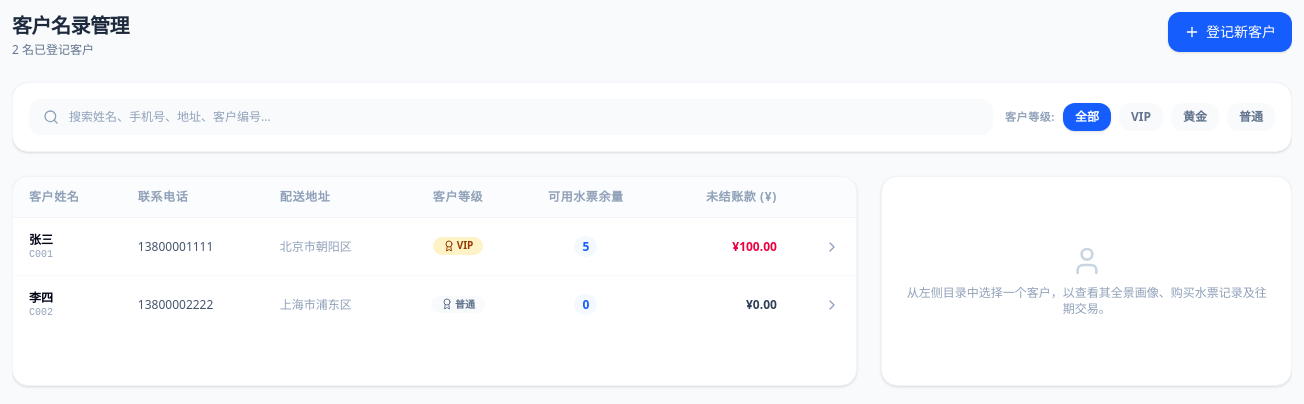
CustomersTab Component › shows empty state when no customers match filter
Type "不存在的客户" into the field with placeholder "搜索姓名、手机号、地址、客户编号...".
click(511, 117); type("不存在的客户")  # box [29,99,993,135]
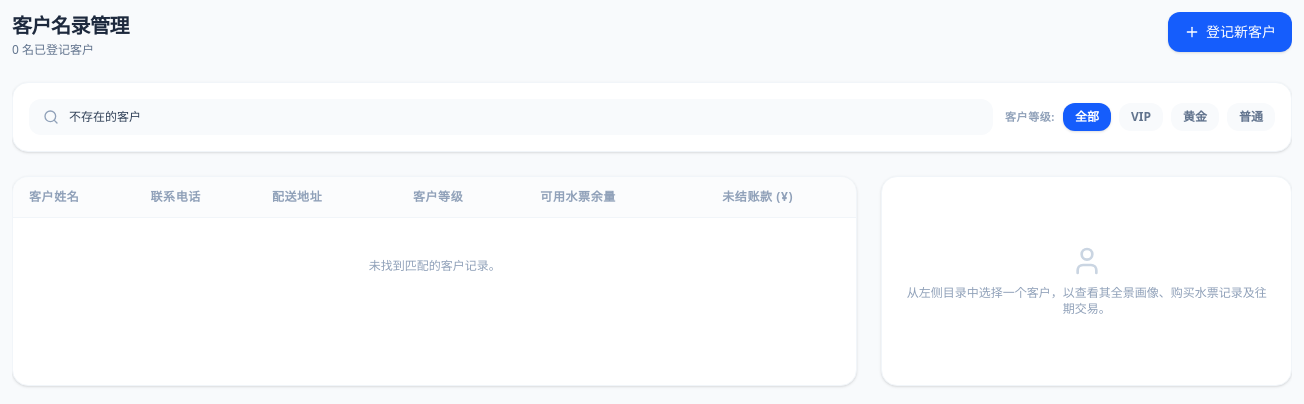
Expected: the text "张三" is gone
Expected: the text "李四" is gone
